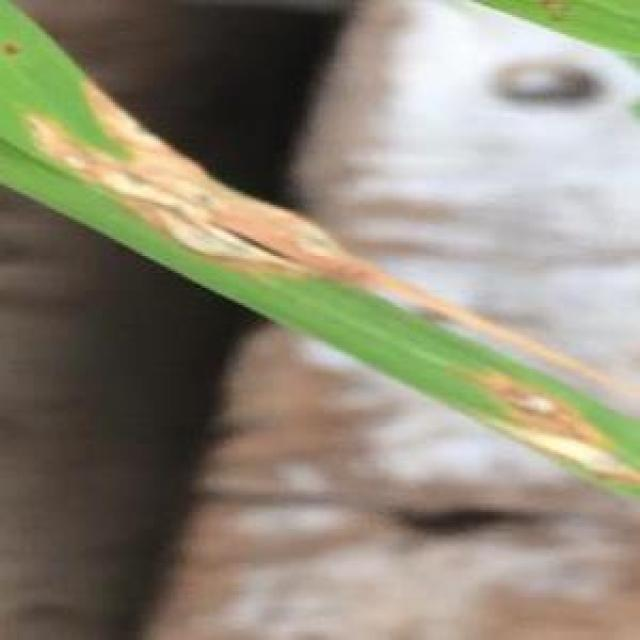Bacterial_Blight: (20, 51, 579, 370)
Rice_Blast: (483, 401, 640, 496)
